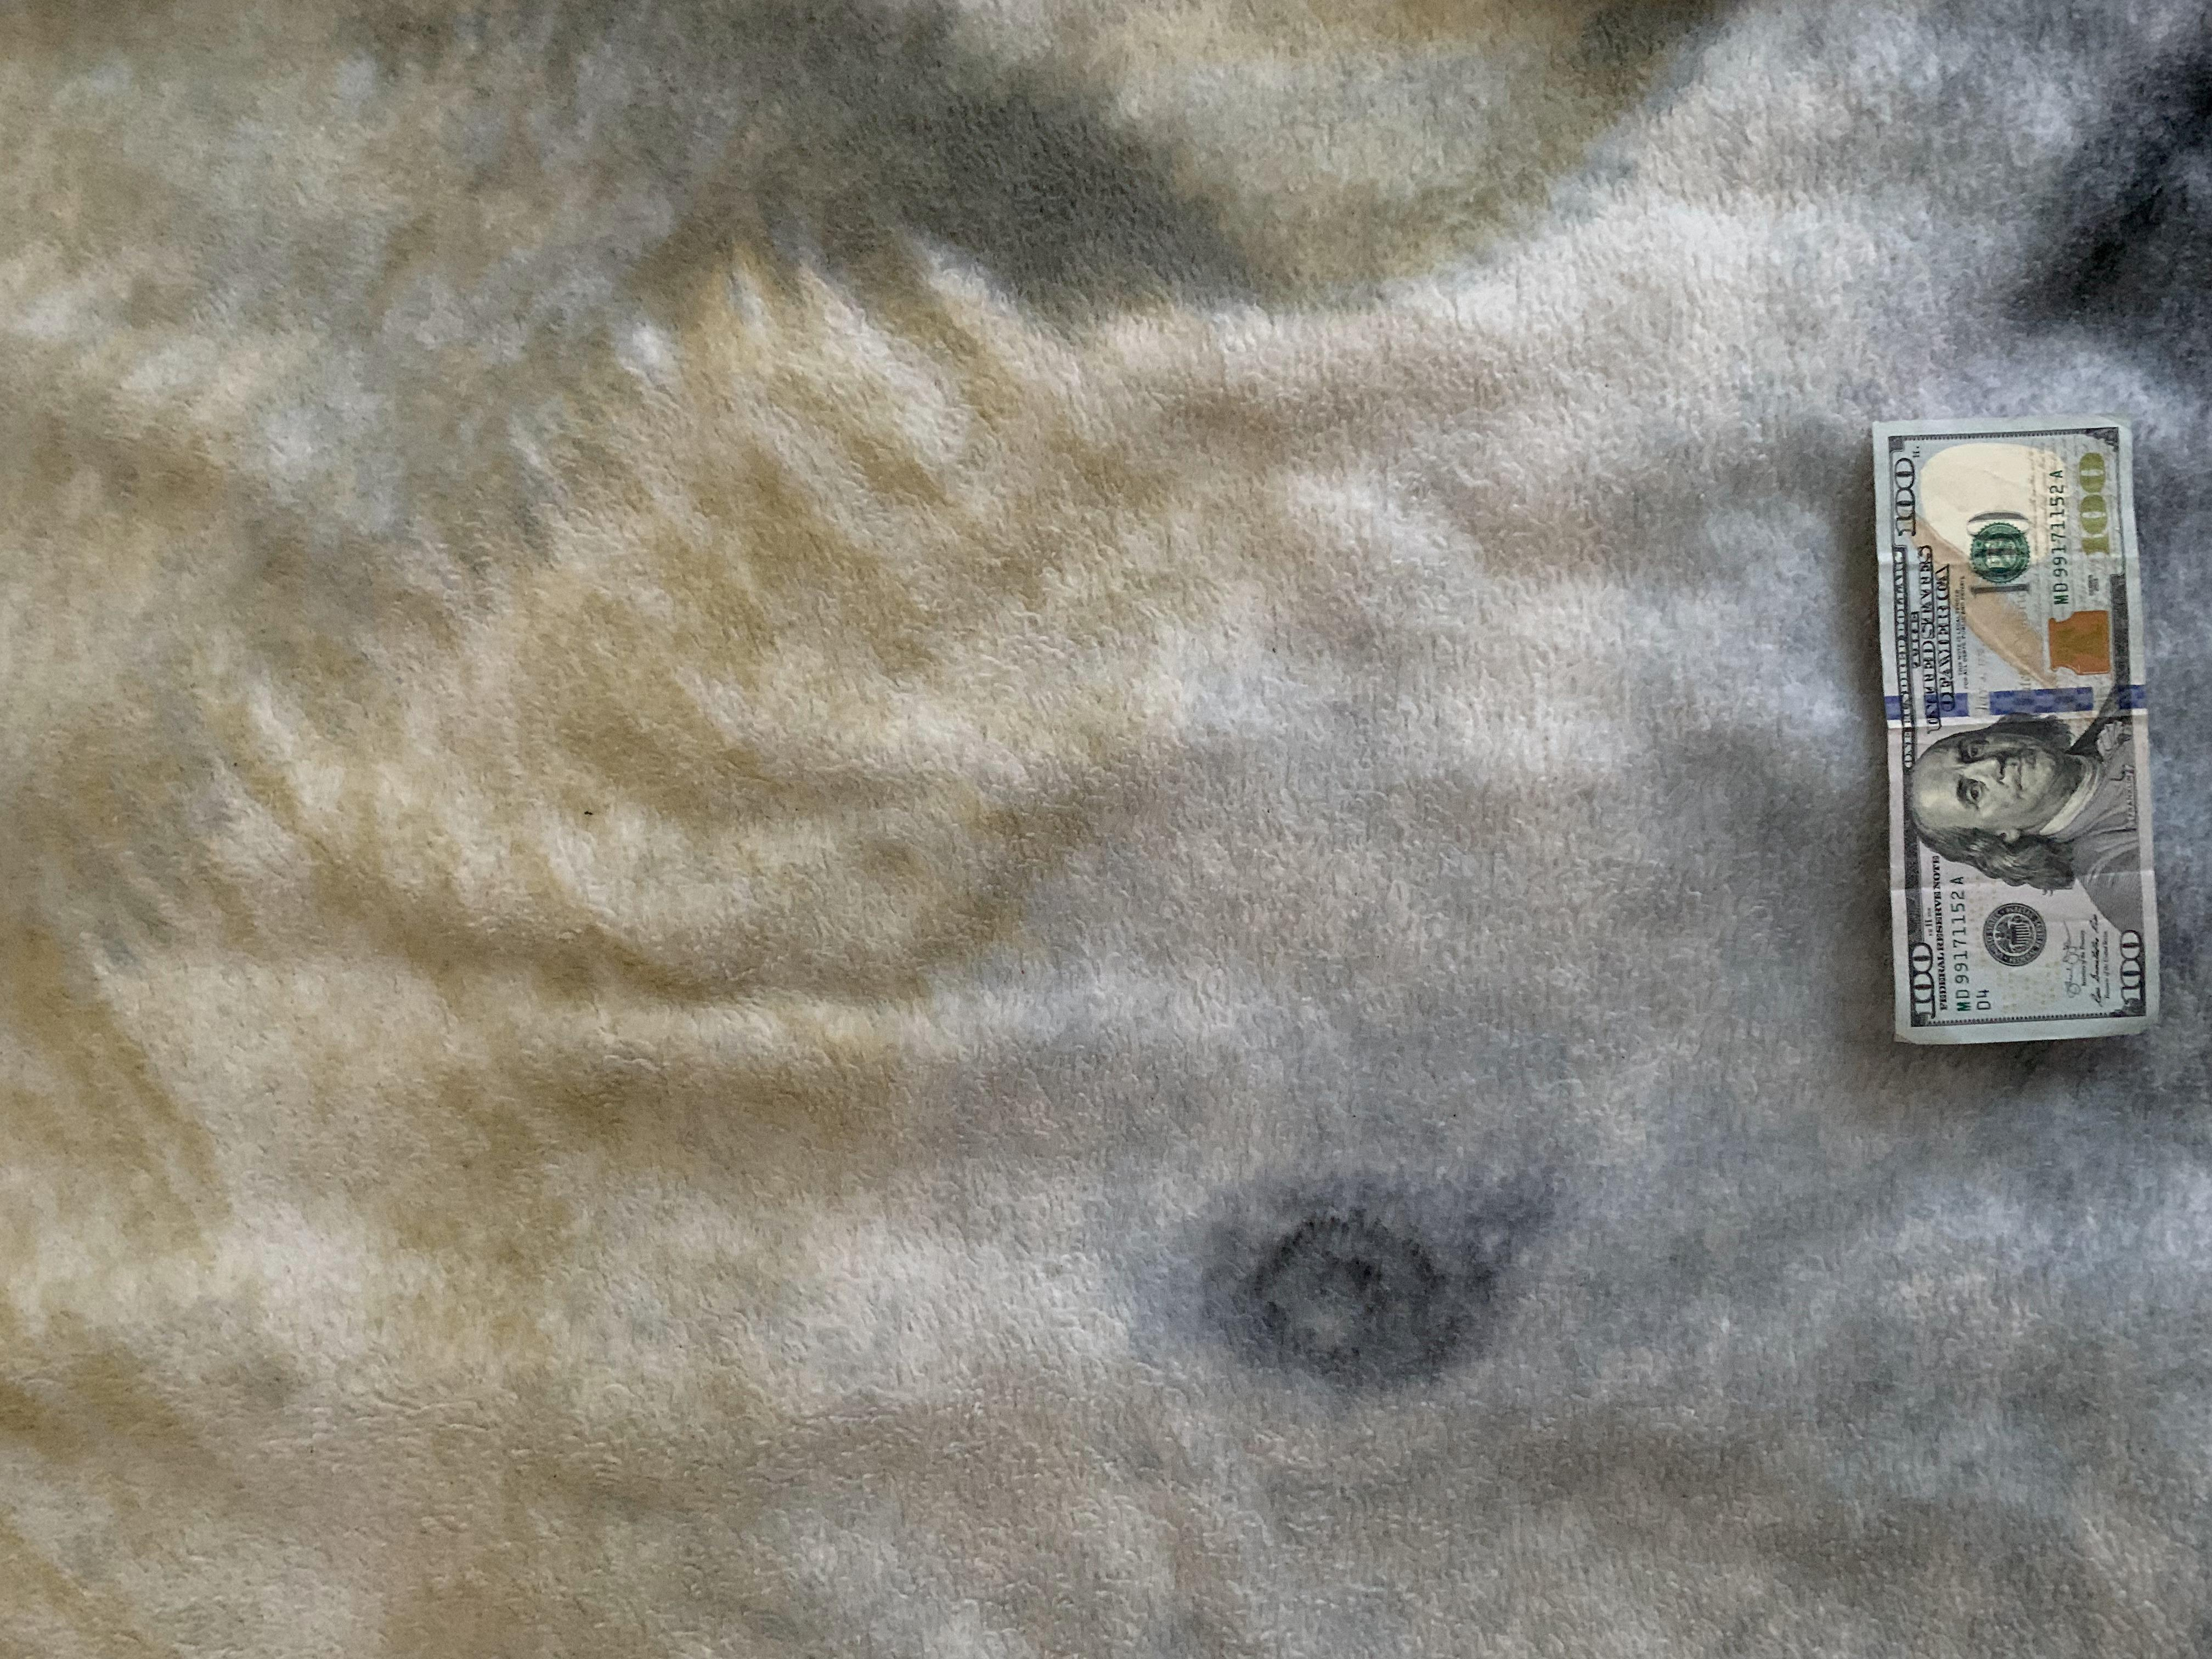HundredBill: (1874, 411, 2160, 1060)
